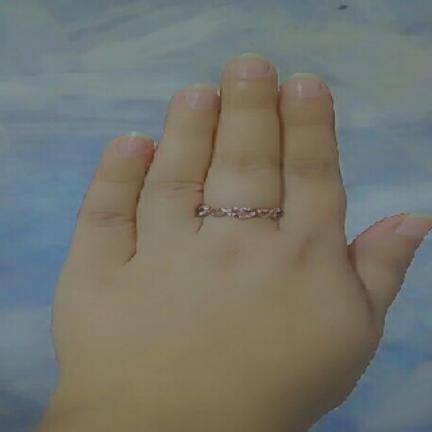Nail: (285, 72, 323, 98), (184, 83, 220, 110), (229, 54, 269, 77), (116, 132, 150, 159), (395, 215, 432, 238)
